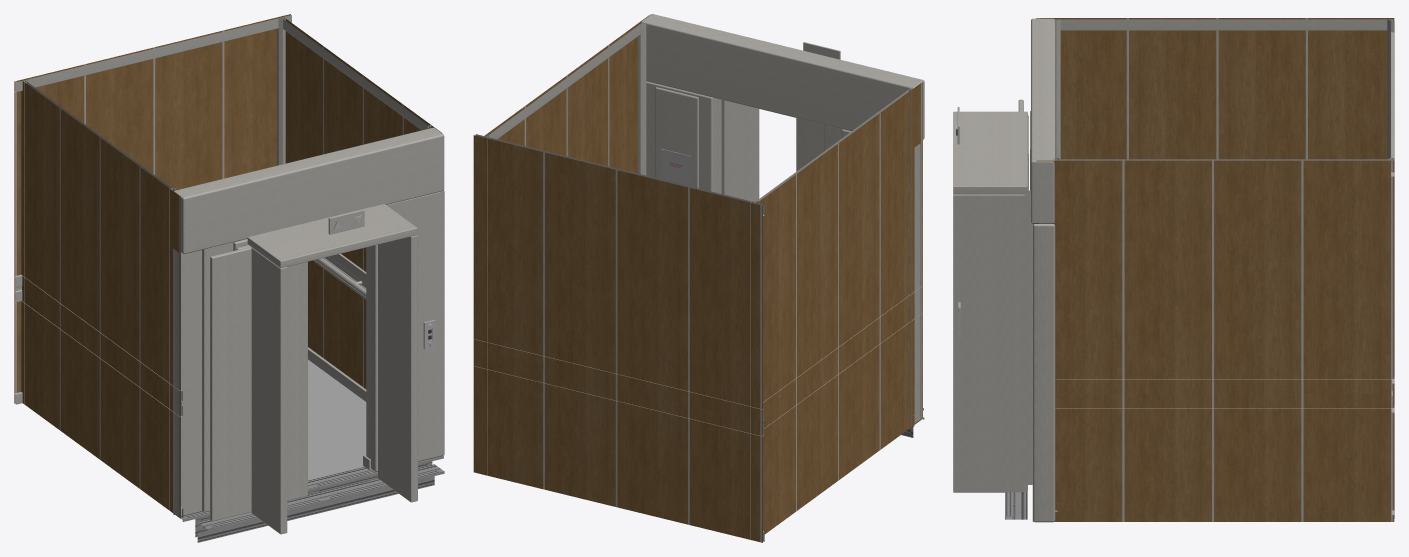
File: SM_Elevator.fbx
The picture shows the model from 3 angles, left to right: view 1: azimuth 30°, elevation 25°; view 2: azimuth 150°, elevation 25°; view 3: azimuth 270°, elevation 25°; orthographic projection. The views are drawn at different scales.
Visible parts, largest first — view 1: SM_Elevator; view 2: SM_Elevator; view 3: SM_Elevator.
Boxes of the visible parts, bbox=[...] form: SM_Elevator: bbox=[14, 14, 444, 542]; SM_Elevator: bbox=[473, 14, 924, 542]; SM_Elevator: bbox=[953, 18, 1394, 522].
Size of the model in its own units: 234 by 280 by 288.
2 materials, 1 textured.
